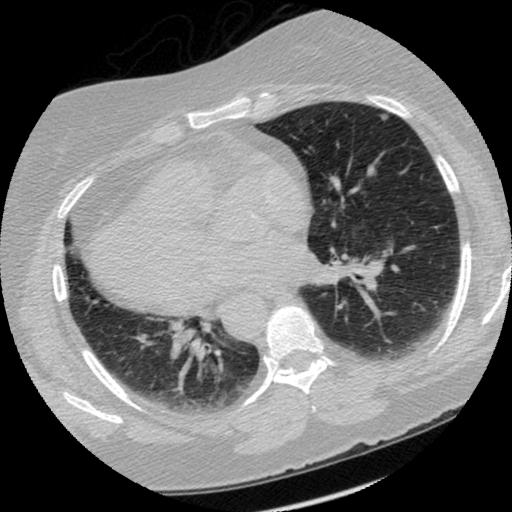nodule: (380, 111, 393, 124)
